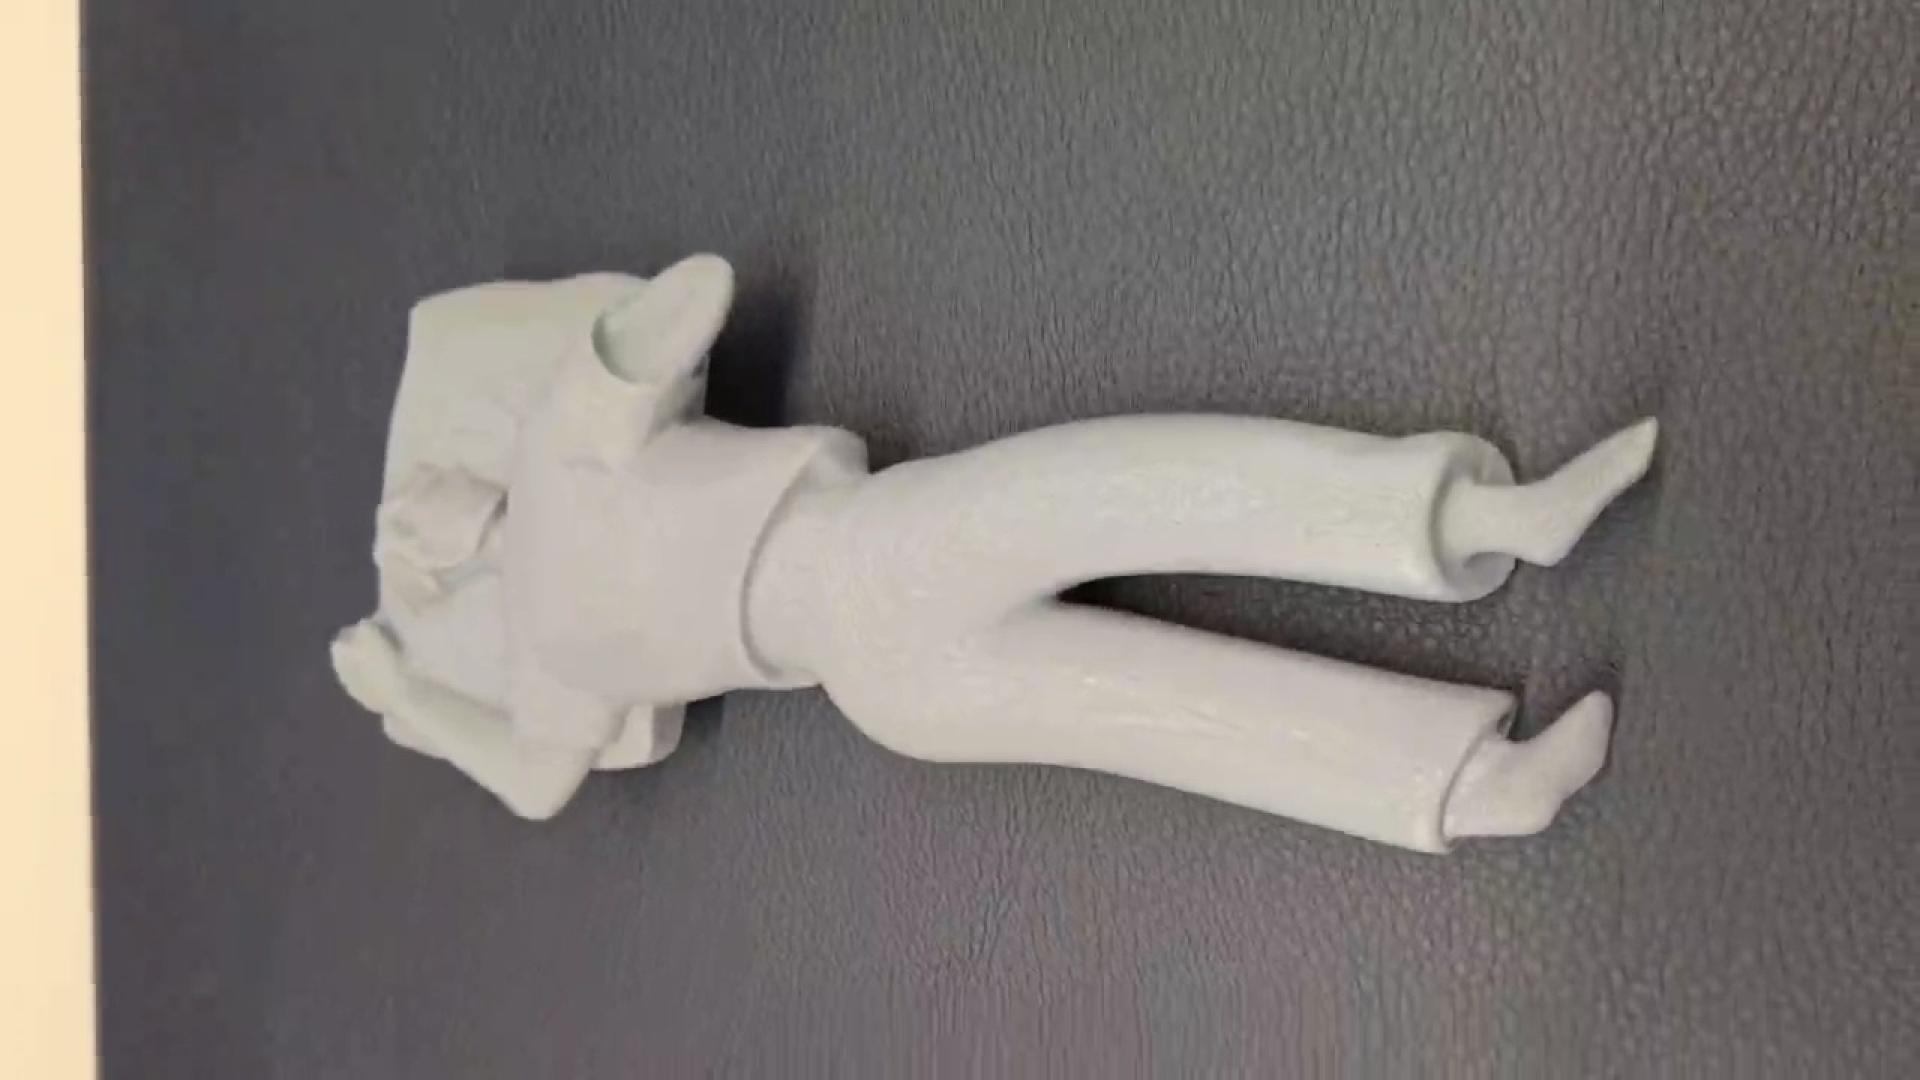Bad-style: (326, 237, 1669, 870)
